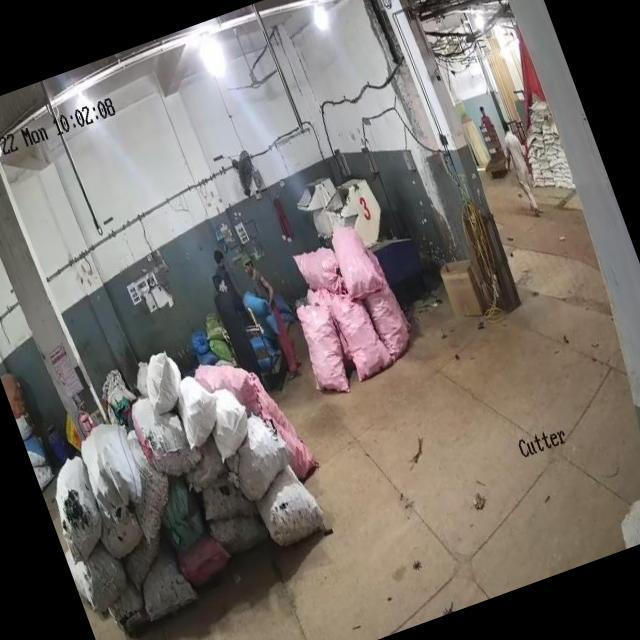person: (235, 238, 307, 372), (208, 268, 258, 367), (499, 119, 546, 218), (204, 240, 246, 310), (476, 101, 503, 148)
